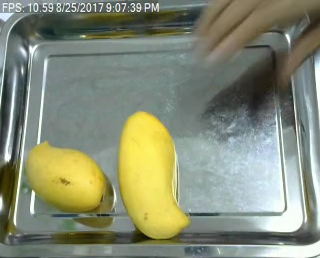Mango: (114, 109, 194, 240), (24, 138, 109, 211)
